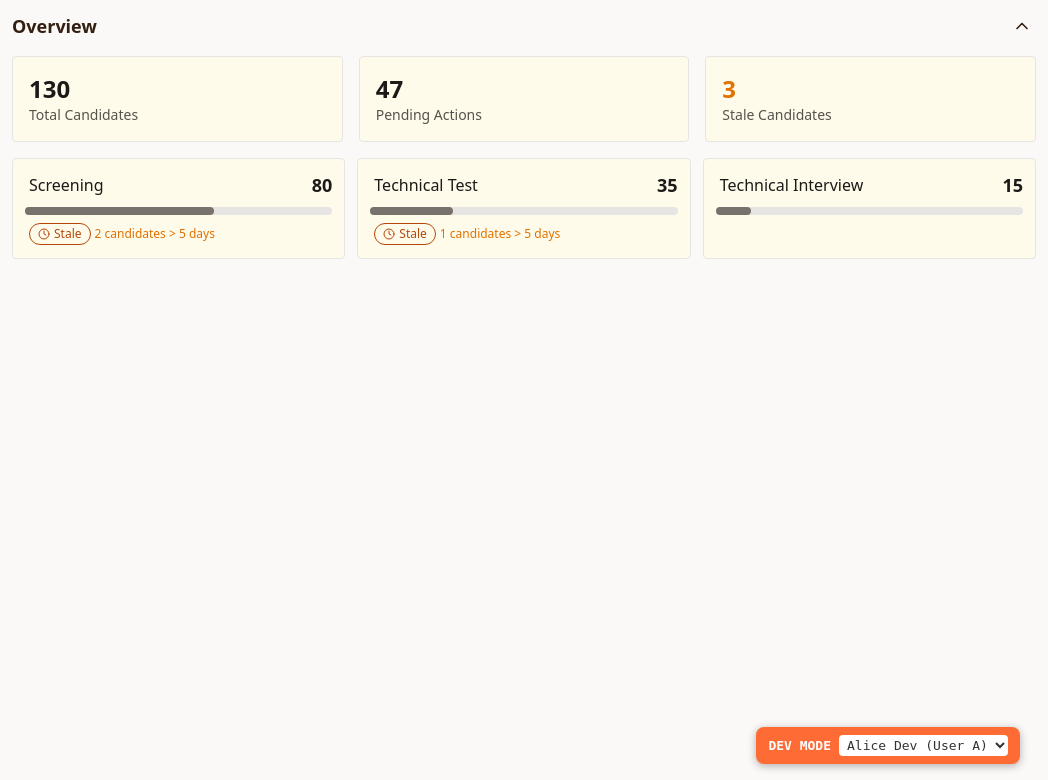
Test case: OverviewDashboard › should display inline summary when collapsed
Expected: the text "Total Candidates" is shown, [29,105,138,124]
Click the button named "Collapse overview": coordinates (1022, 26) [1008,12,1036,40]
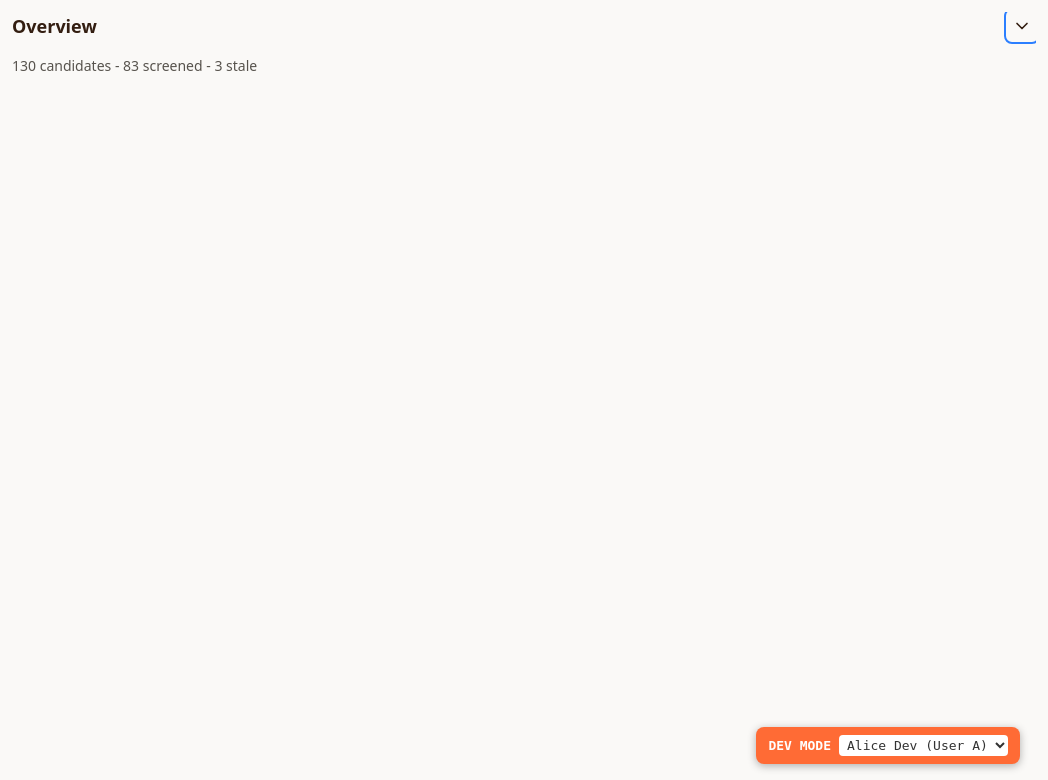
Result: the text "130 candidates - 83 screened - 3 stale" is shown at [12,56,257,75]
